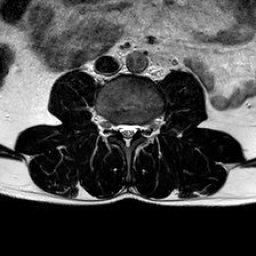CCS_normal: (123, 114, 131, 153)
LFS_normal: (139, 114, 148, 139)
LLS_stenosis: (131, 114, 139, 141)
RFS_stenosis: (107, 113, 115, 140)
RLS_normal: (115, 114, 123, 141)
